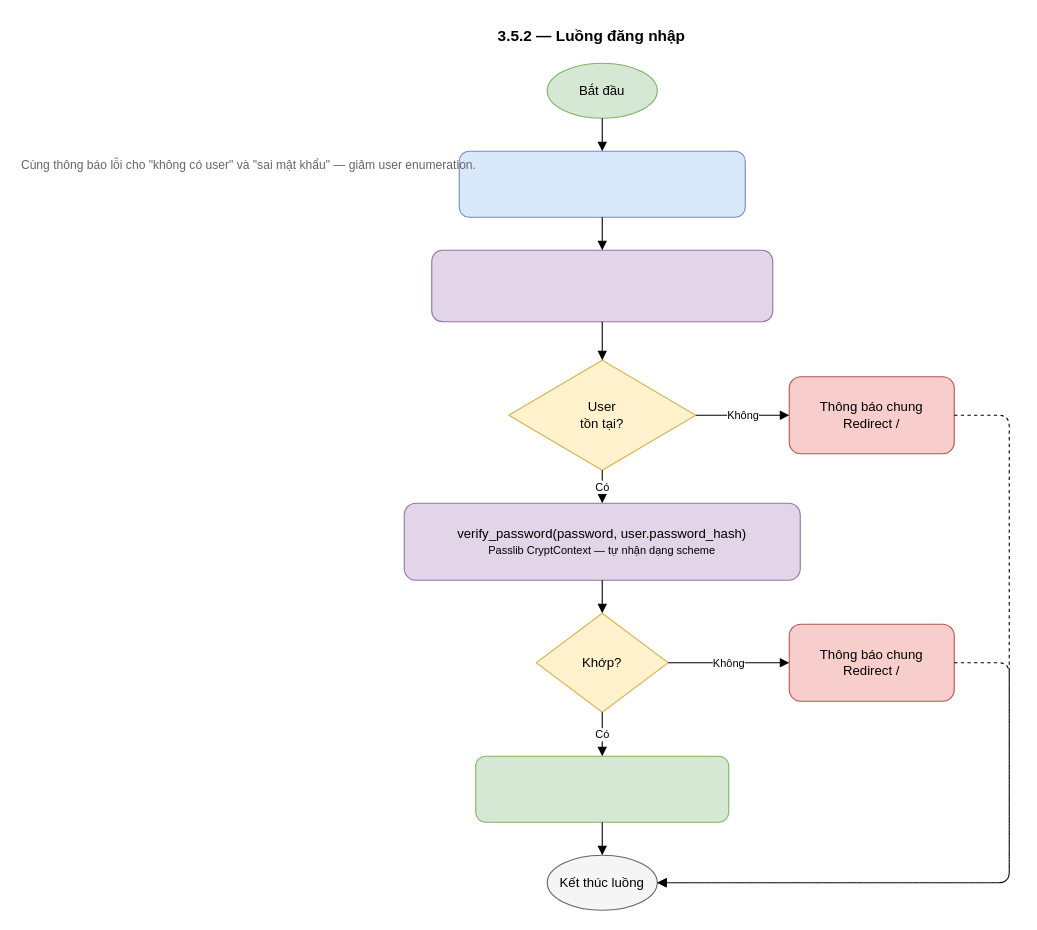
Some shapes in this 1037 by 930 pixel diagram are drawn without their labels. Here are the shapes that lost their labels. From the top down, the centre of each, then its label:
At point 601,183: "Người dùng gửi form POST /login — username, password".
At point 602,285: "authenticate(db, username, password) Tìm User theo username".
At point 602,788: "Session: user_id Redirect /dashboard".
